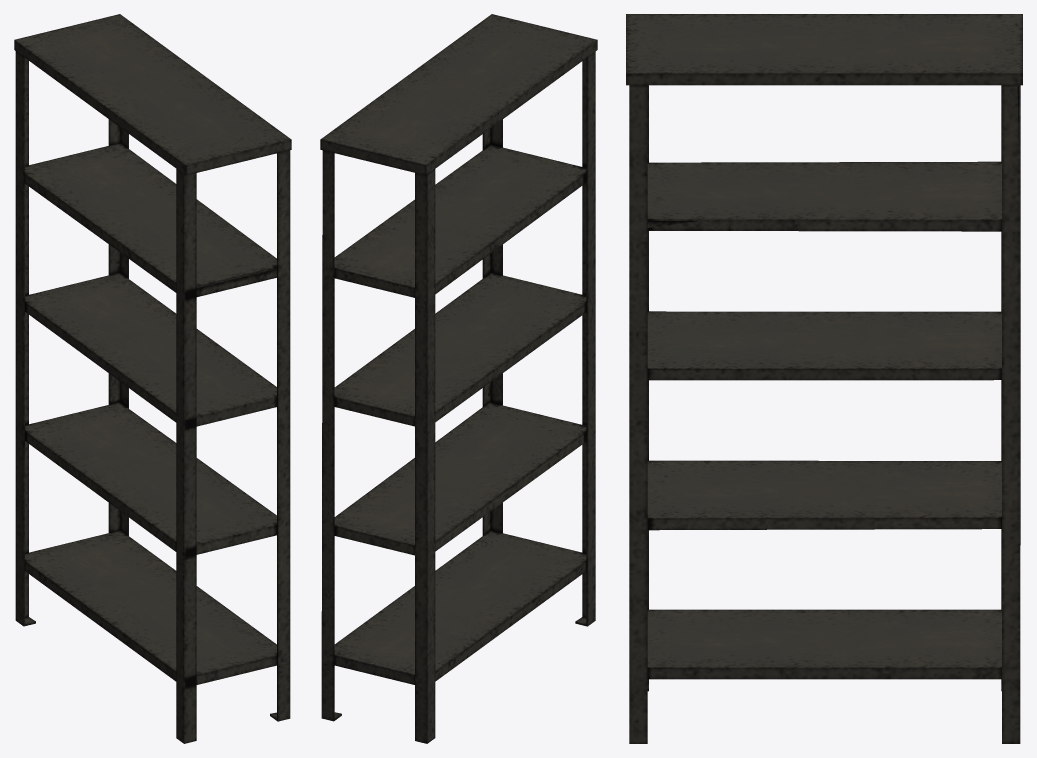
File: shelf.glb
3 renders of one model, left to right at view 1: azimuth 30°, elevation 25°; view 2: azimuth 150°, elevation 25°; view 3: azimuth 270°, elevation 25°, orthographic. The views are drawn at different scales.
Parts seen in each view (by area): view 1: Shelf_0; view 2: Shelf_0; view 3: Shelf_0.
Boxes of the visible parts, x1,y1,x2,y2 form: Shelf_0: (14, 14, 291, 743); Shelf_0: (320, 14, 597, 743); Shelf_0: (626, 14, 1022, 743).
Bounding box in the file's own units: 0.4054 × 2.12 × 1.14.
1 material, 1 textured.
